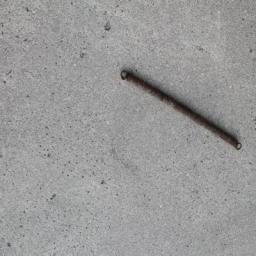FOD: (120, 68, 244, 153)
